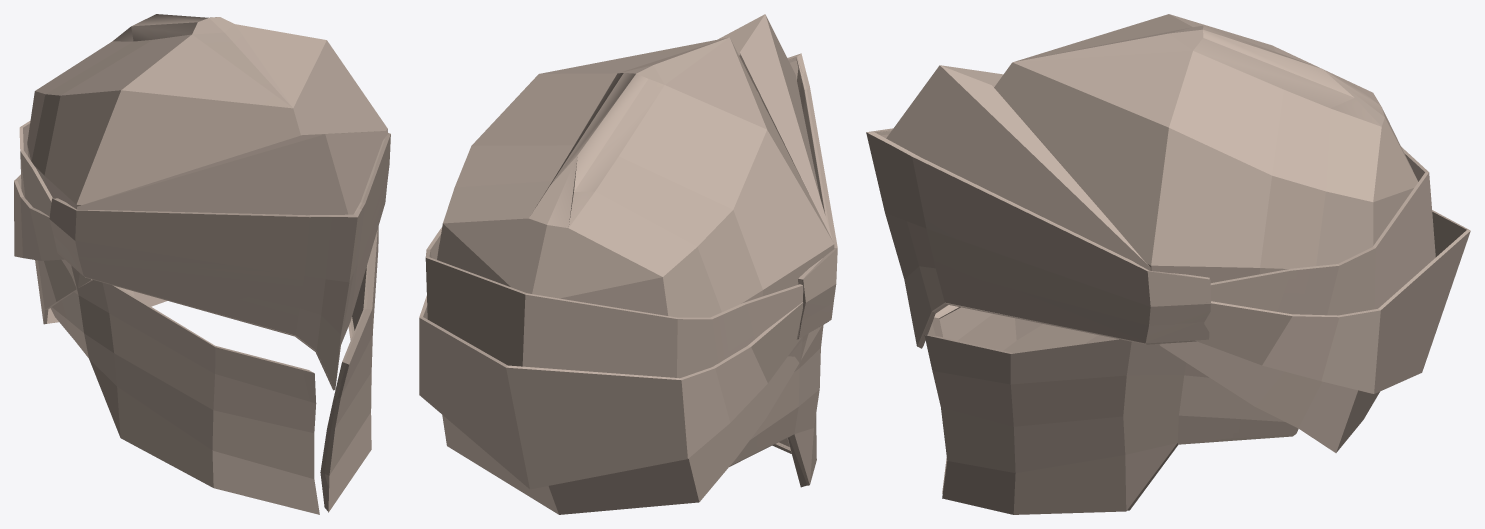
Rendered from armorHelmet.fbx.
3 renders of one model, left to right at view 1: azimuth 30°, elevation 25°; view 2: azimuth 150°, elevation 25°; view 3: azimuth 270°, elevation 25°, orthographic. The views are drawn at different scales.
Parts seen in each view (by area): view 1: Circle.010; view 2: Circle.010; view 3: Circle.010.
Part boxes in pixels (left/top/right/bottom): Circle.010: left=14, top=14, right=390, bottom=514; Circle.010: left=419, top=14, right=837, bottom=514; Circle.010: left=866, top=14, right=1470, bottom=514.
Bounding box in the file's own units: 1.42 × 1.77 × 2.08.
